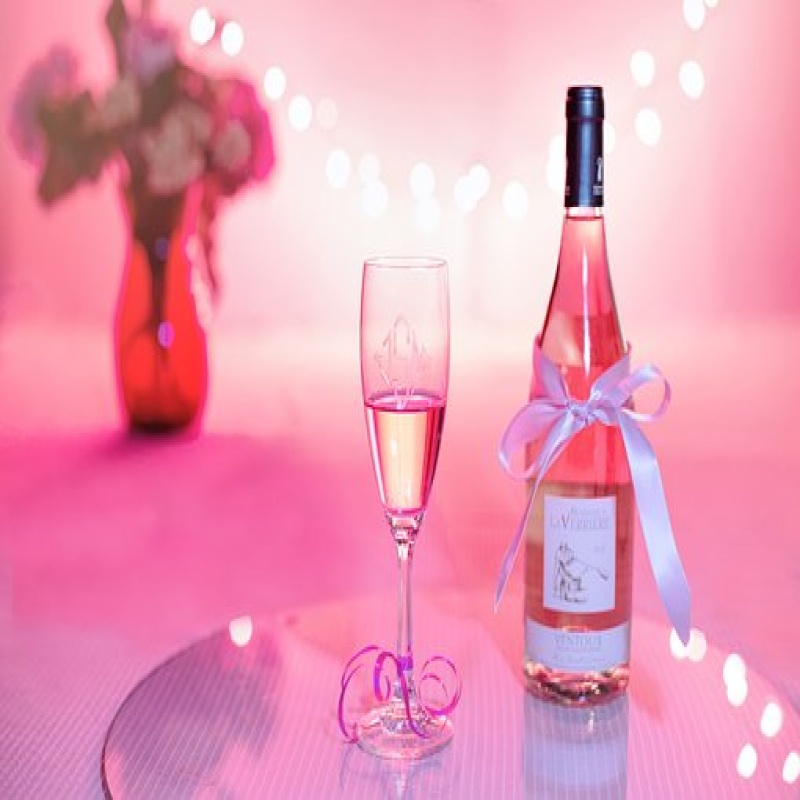wine: (510, 87, 638, 700)
